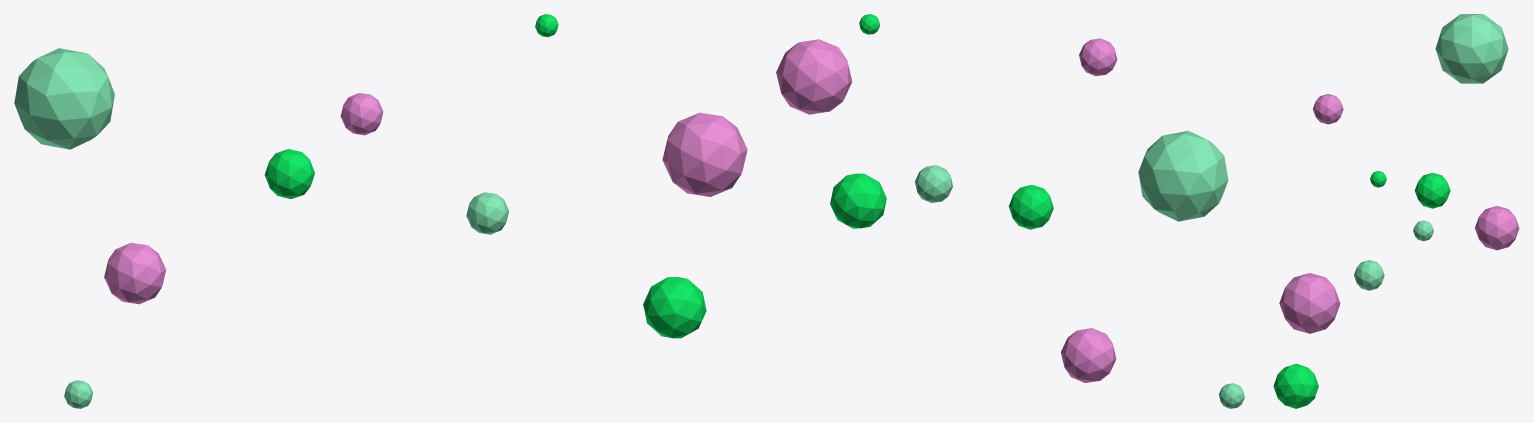
File: Shapes.glb
3 renders of one model, left to right at view 1: azimuth 30°, elevation 25°; view 2: azimuth 150°, elevation 25°; view 3: azimuth 270°, elevation 25°, orthographic. The views are drawn at different scales.
Visible parts, largest first — view 1: Icosphere, Icosphere.002, Icosphere.001, Icosphere.003, Icosphere.008, Icosphere.005, Icosphere.004, Icosphere.007; view 2: Icosphere, Icosphere.002, Icosphere.001, Icosphere.003, Icosphere.008, Icosphere.004, Icosphere.005, Icosphere.007; view 3: Icosphere, Icosphere.002, Icosphere.001, Icosphere.003, Icosphere.008, Icosphere.005, Icosphere.004, Icosphere.007.
Part boxes in pixels (x1=…): Icosphere: x1=14, y1=48, x2=114, y2=149; Icosphere.002: x1=662, y1=112, x2=747, y2=196; Icosphere.001: x1=643, y1=277, x2=706, y2=338; Icosphere.003: x1=104, y1=242, x2=166, y2=304; Icosphere.008: x1=264, y1=149, x2=314, y2=198; Icosphere.005: x1=466, y1=192, x2=508, y2=234; Icosphere.004: x1=340, y1=93, x2=383, y2=135; Icosphere.007: x1=64, y1=380, x2=92, y2=408; Icosphere: x1=1138, y1=130, x2=1228, y2=221; Icosphere.002: x1=776, y1=39, x2=852, y2=114; Icosphere.001: x1=830, y1=173, x2=886, y2=228; Icosphere.003: x1=1061, y1=328, x2=1116, y2=382; Icosphere.008: x1=1008, y1=184, x2=1053, y2=229; Icosphere.004: x1=1079, y1=38, x2=1117, y2=76; Icosphere.005: x1=915, y1=165, x2=952, y2=202; Icosphere.007: x1=1219, y1=383, x2=1244, y2=408; Icosphere: x1=1435, y1=14, x2=1508, y2=83; Icosphere.002: x1=1279, y1=273, x2=1340, y2=333; Icosphere.001: x1=1273, y1=363, x2=1318, y2=408; Icosphere.003: x1=1475, y1=206, x2=1519, y2=250; Icosphere.008: x1=1414, y1=172, x2=1450, y2=208; Icosphere.005: x1=1354, y1=260, x2=1384, y2=290; Icosphere.004: x1=1313, y1=94, x2=1343, y2=124; Icosphere.007: x1=1413, y1=220, x2=1433, y2=241.
Bounding box in the file's own units: 5.15 × 2.64 × 2.55.
